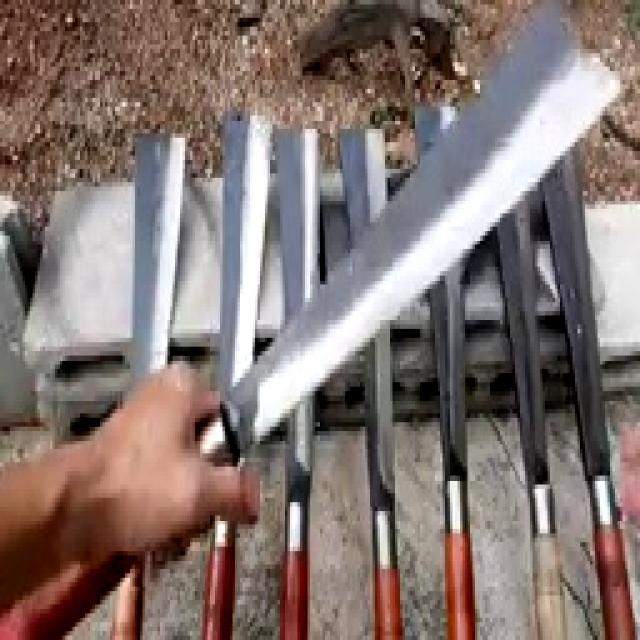eto: (111, 131, 188, 640)
